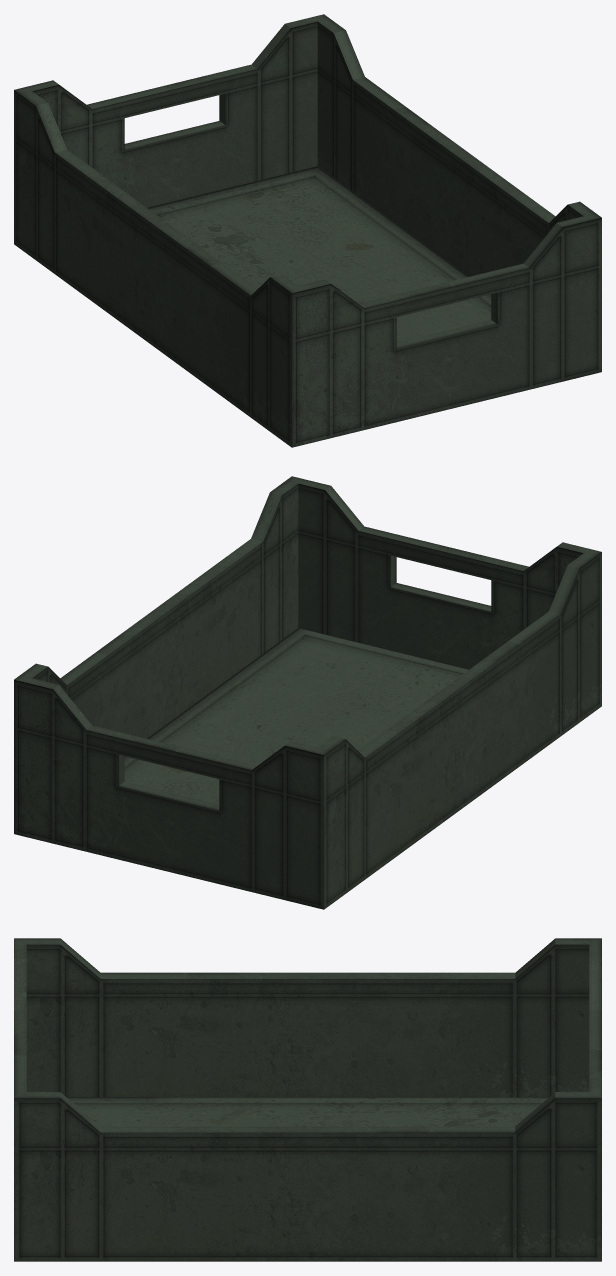
The model's file is ms_carte_plastic_small.fbx.
3 views of the same model, one above another, from view 1: azimuth 30°, elevation 25°; view 2: azimuth 150°, elevation 25°; view 3: azimuth 270°, elevation 25° (orthographic). The views are drawn at different scales.
Parts seen in each view (by area): view 1: ms_carte_plastic_small; view 2: ms_carte_plastic_small; view 3: ms_carte_plastic_small.
Part boxes in pixels (<box>): ms_carte_plastic_small: <box>14,14,601,447</box>; ms_carte_plastic_small: <box>14,476,601,909</box>; ms_carte_plastic_small: <box>14,938,601,1261</box>.
Size of the model in its own units: 39.59 by 18.85 by 61.47.
